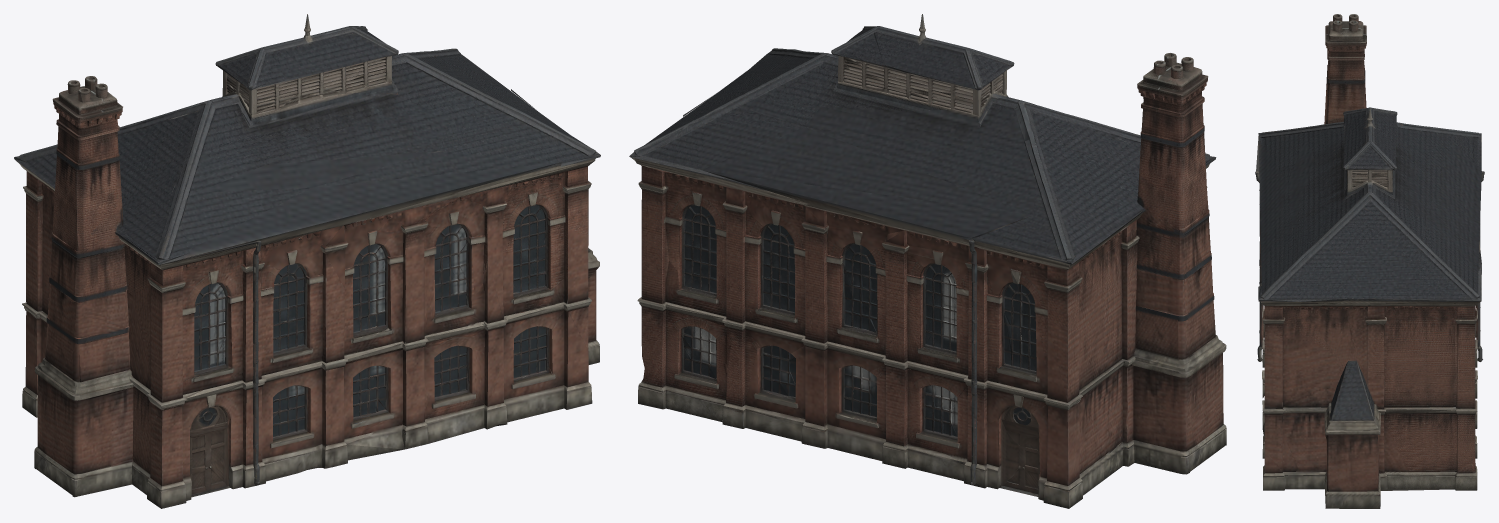
File: winding_engine_house.glb
3 views of the same model, side by side, from view 1: azimuth 30°, elevation 25°; view 2: azimuth 150°, elevation 25°; view 3: azimuth 270°, elevation 25° (orthographic). The views are drawn at different scales.
Bounding box in the file's own units: 1.9 × 1.33 × 0.9162.
1 material, 1 textured.
